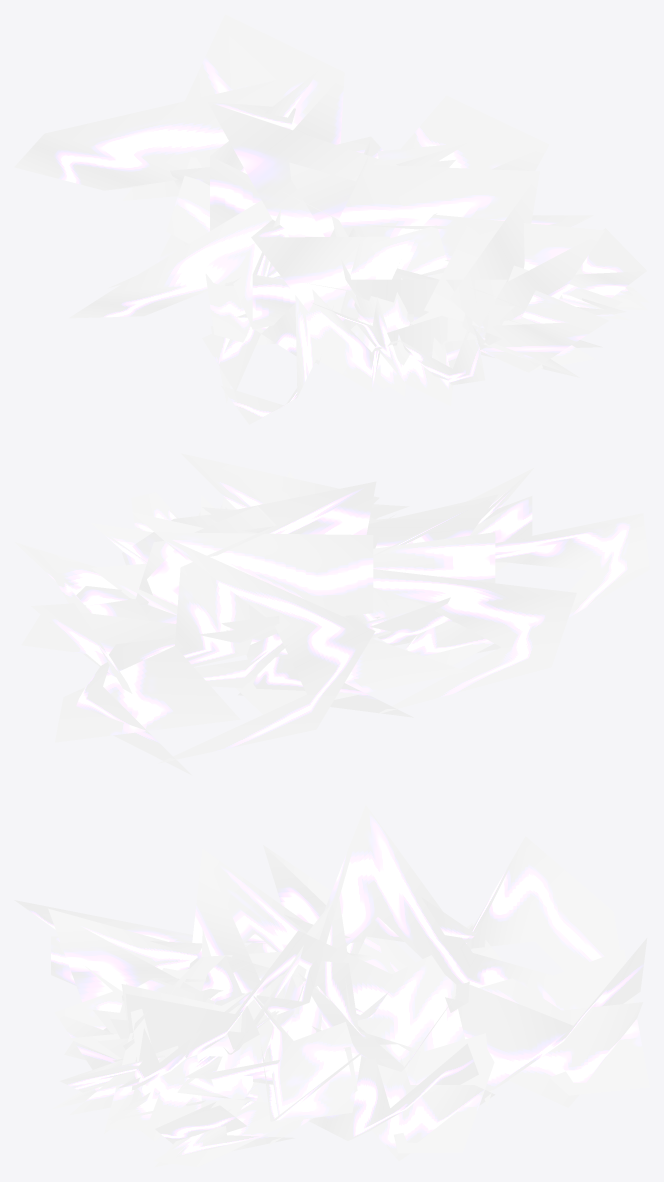
Rendered from sfx_ct0147_skill1.glb.
3 renders of one model, top to bottom at view 1: azimuth 30°, elevation 25°; view 2: azimuth 150°, elevation 25°; view 3: azimuth 270°, elevation 25°, orthographic. The views are drawn at different scales.
Visible parts, largest first — view 1: sfx_ct0147_skill1; view 2: sfx_ct0147_skill1; view 3: sfx_ct0147_skill1.
Boxes of the visible parts, x1,y1,x2,y2 form: sfx_ct0147_skill1: (14, 14, 649, 424); sfx_ct0147_skill1: (14, 453, 649, 775); sfx_ct0147_skill1: (14, 804, 649, 1167).
Bounding box in the file's own units: 2.04 × 0.8085 × 2.24.
Materials: 1 (1 with a texture image).
